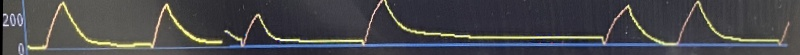normal_volume: (22, 0, 800, 55)
